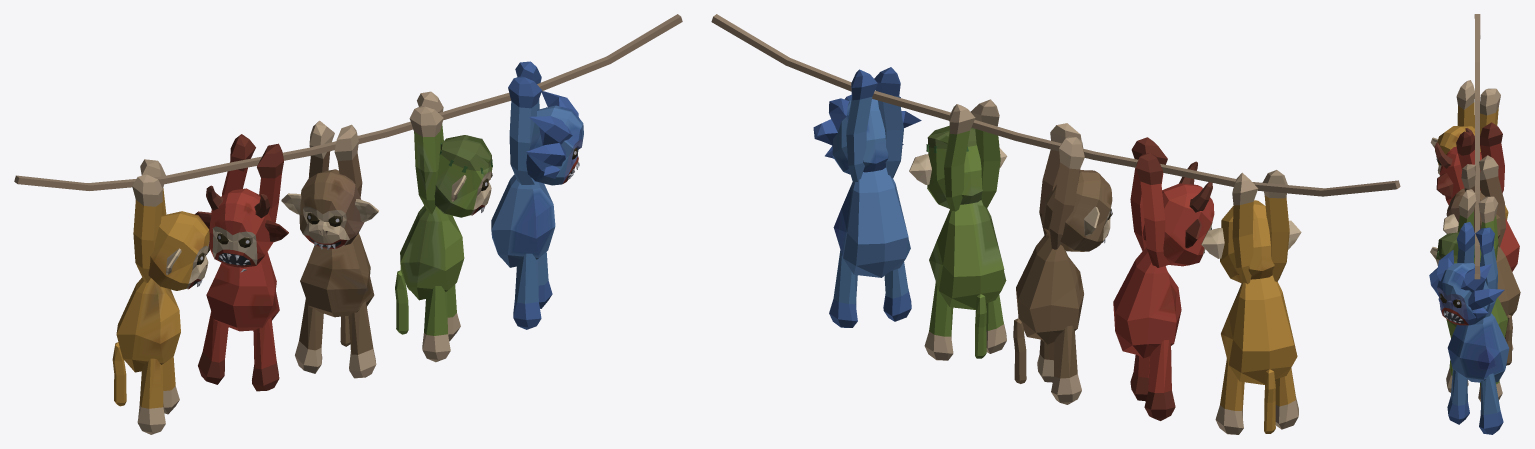
The model's file is SM_Prop_Plushies_Hanging_02.glb.
3 views of the same model, side by side, from view 1: azimuth 30°, elevation 25°; view 2: azimuth 150°, elevation 25°; view 3: azimuth 270°, elevation 25° (orthographic). The views are drawn at different scales.
Visible parts, largest first — view 1: SM_Prop_Plushies_Hanging_02; view 2: SM_Prop_Plushies_Hanging_02; view 3: SM_Prop_Plushies_Hanging_02.
Part boxes in pixels (x1,y1,x2,y2): SM_Prop_Plushies_Hanging_02: (14, 14, 682, 434); SM_Prop_Plushies_Hanging_02: (711, 14, 1400, 434); SM_Prop_Plushies_Hanging_02: (1429, 14, 1520, 434).
Size of the model in its own units: 368 by 148 by 54.3.
Materials: 1 (1 with a texture image).
